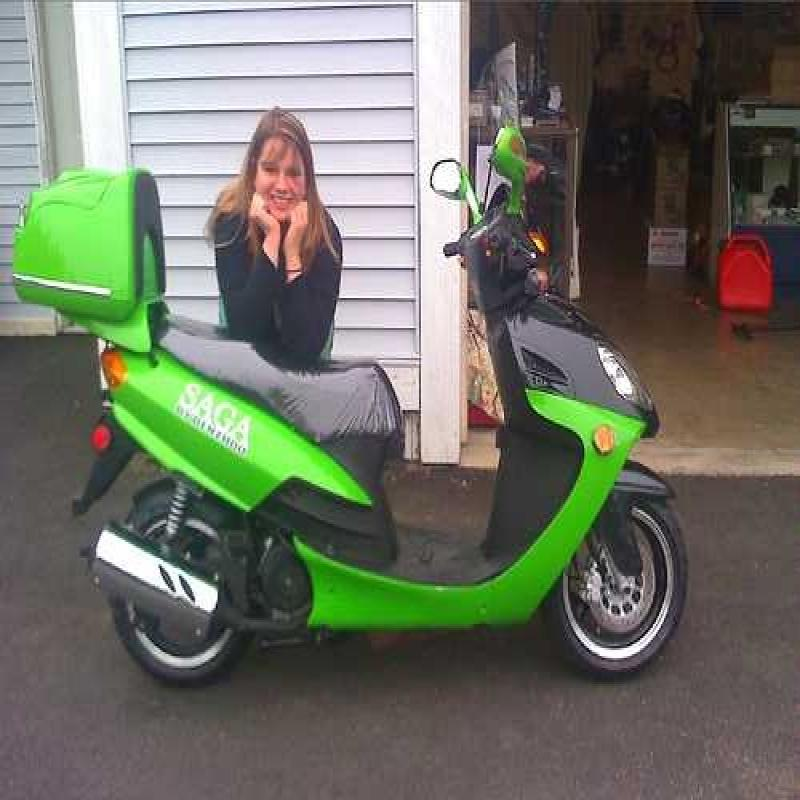bike: (16, 124, 699, 692)
